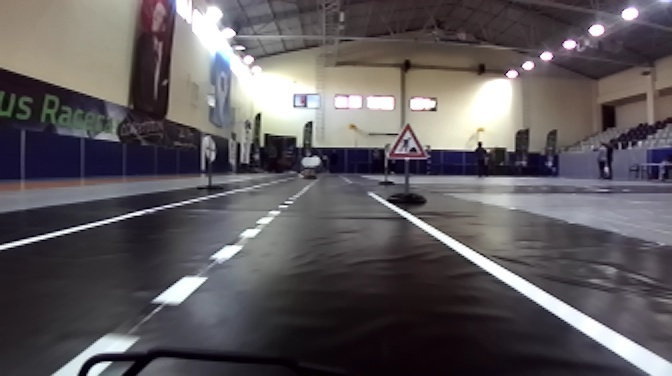yol_yapimi: (381, 119, 432, 162)
